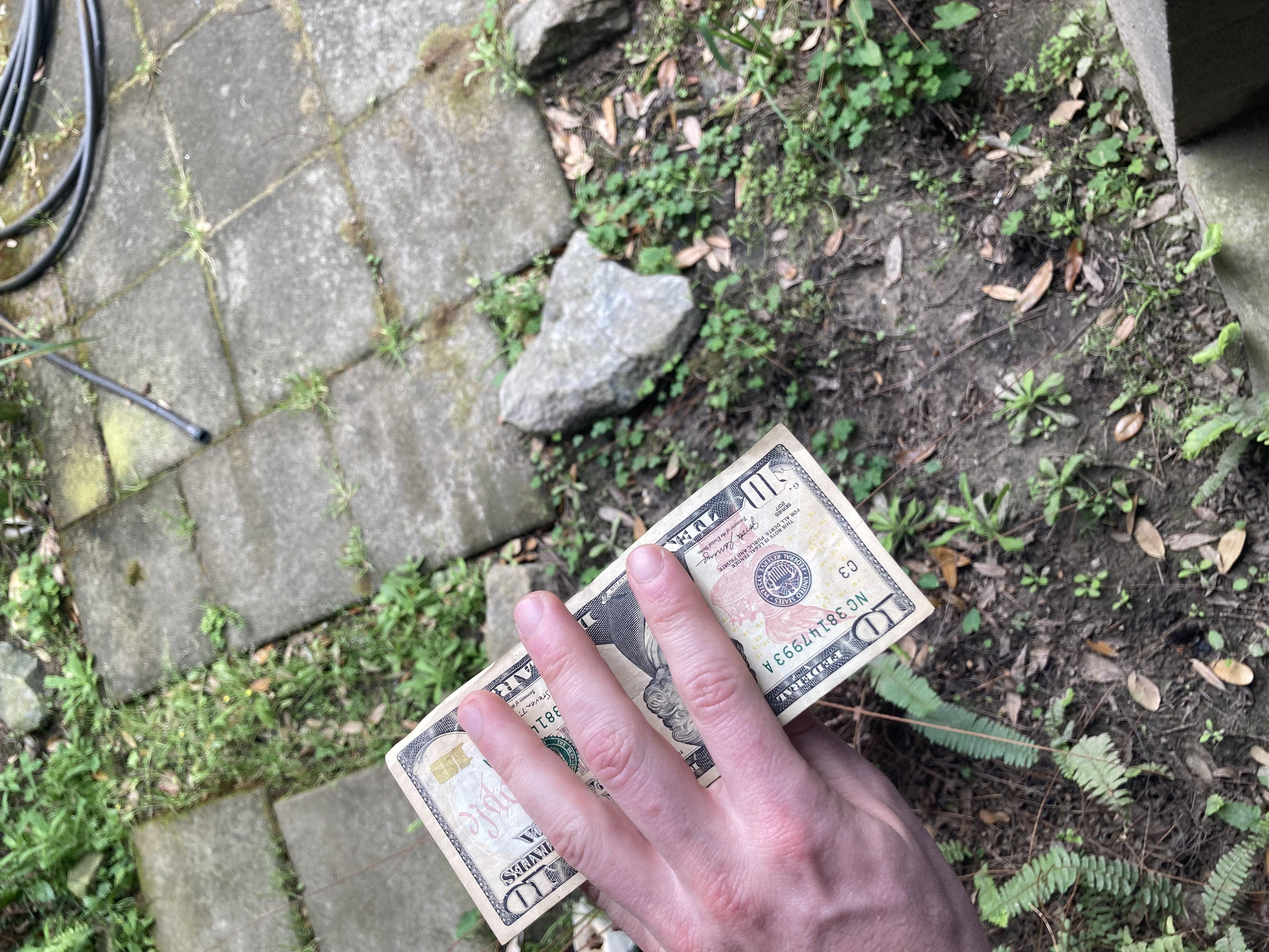ten-front: (10, 284, 707, 703)
